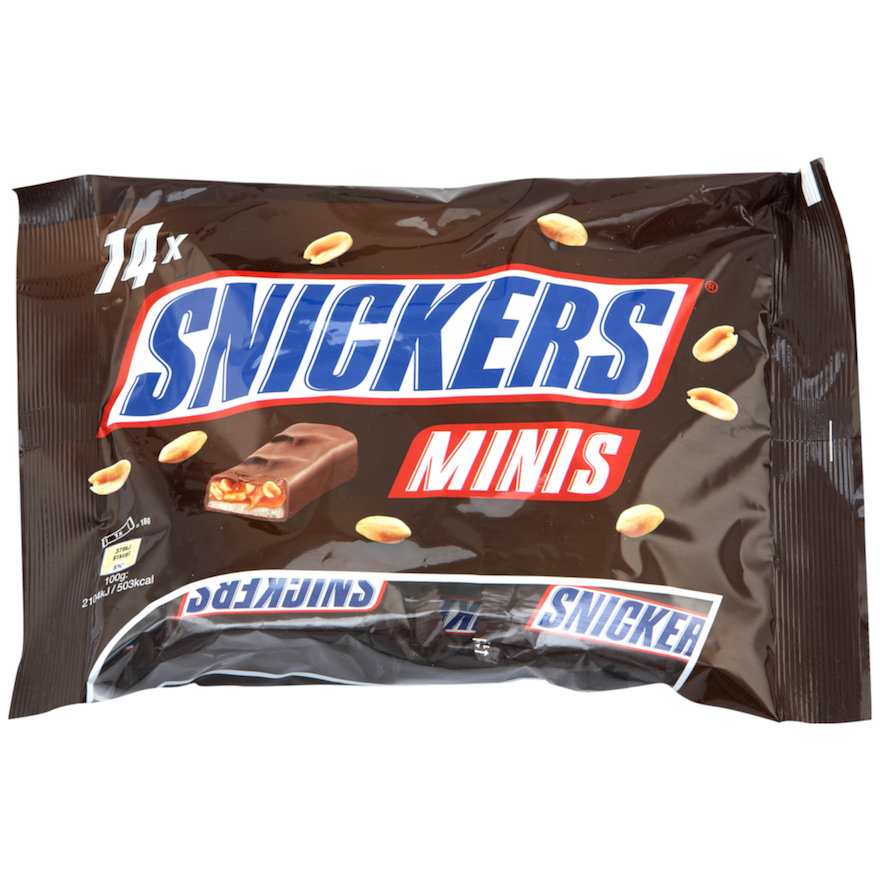snickers: (118, 271, 673, 415), (118, 279, 679, 415), (118, 279, 673, 415), (543, 588, 702, 652), (543, 593, 702, 652), (182, 575, 375, 610)
